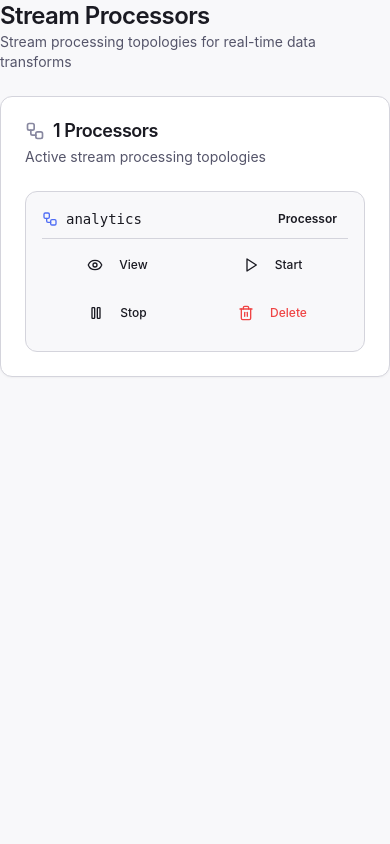
Test: ProcessorsPage › shows processor detail card with source/sink topics
Expected: the text "analytics" is shown, x1=66 y1=209 x2=142 y2=229
What coordinates should you click on to do the following:
click the button with aria-label "View processor"
I would click on:
 (118, 265)
Its box is x1=42 y1=243 x2=193 y2=287.
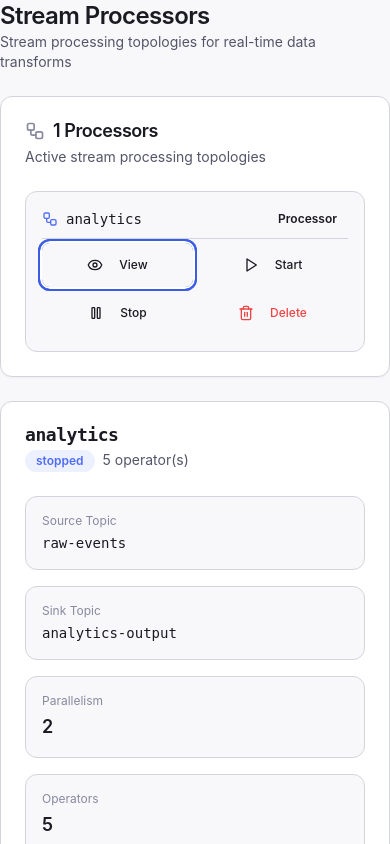
Now the text "Source Topic" is shown, box x1=42 y1=513 x2=117 y2=528
Now the text "raw-events" is shown, box x1=42 y1=535 x2=126 y2=551
Now the text "analytics-output" is shown, box x1=42 y1=625 x2=177 y2=641
